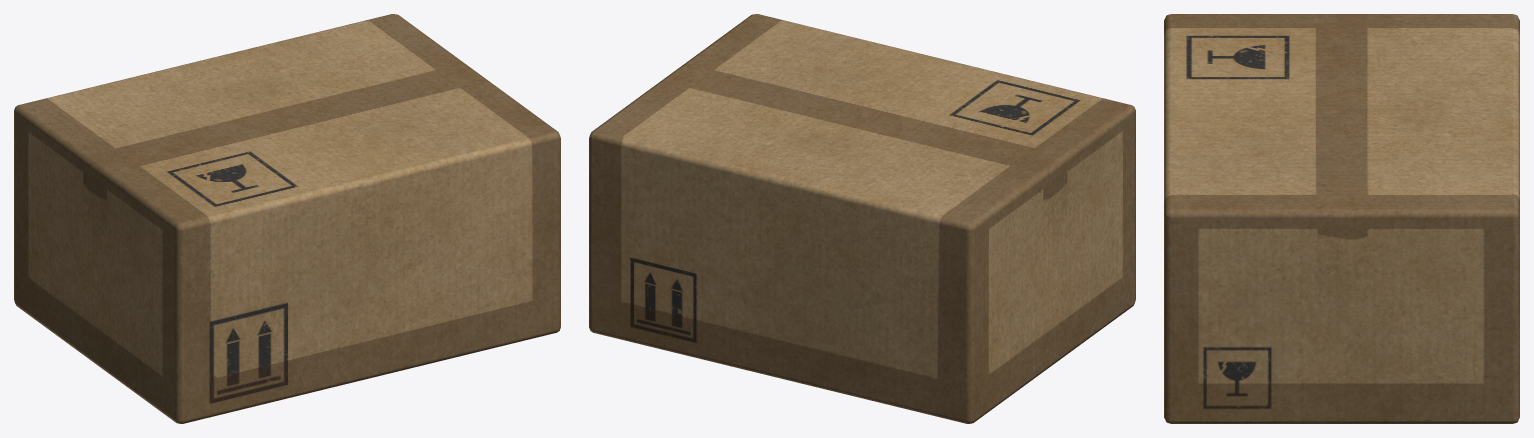
The picture shows the model from 3 angles, left to right: view 1: azimuth 30°, elevation 25°; view 2: azimuth 150°, elevation 25°; view 3: azimuth 270°, elevation 25°; orthographic projection. The views are drawn at different scales.
Visible parts, largest first — view 1: Object_2; view 2: Object_2; view 3: Object_2.
Boxes of the visible parts, left/top/right/bottom form: Object_2: left=14, top=14, right=560, bottom=423; Object_2: left=589, top=14, right=1135, bottom=423; Object_2: left=1164, top=14, right=1519, bottom=423.
Size of the model in its own units: 0.4 by 0.2 by 0.3.
1 material, 1 textured.
